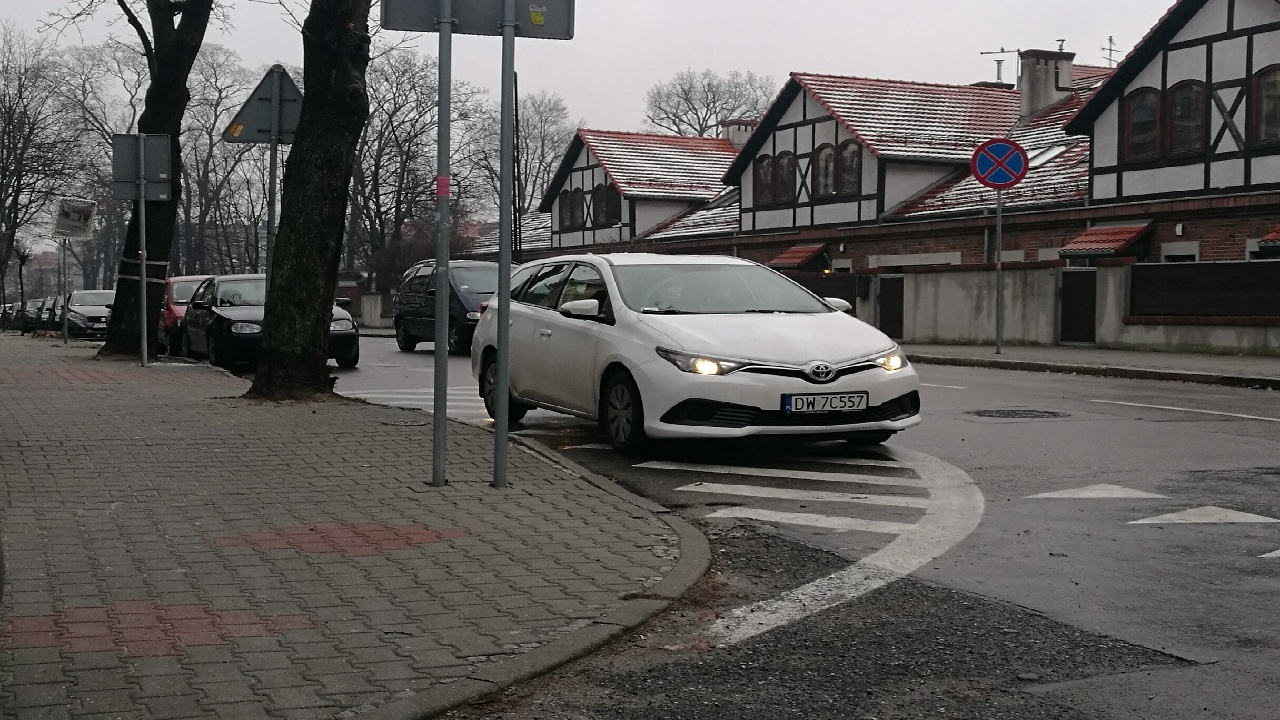B36: (971, 139, 1028, 188)
